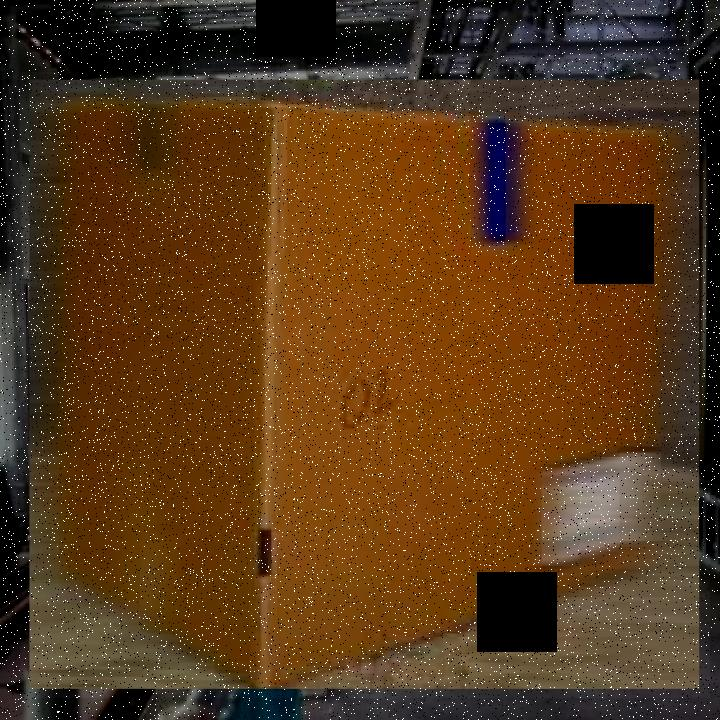box: (20, 72, 710, 698)
